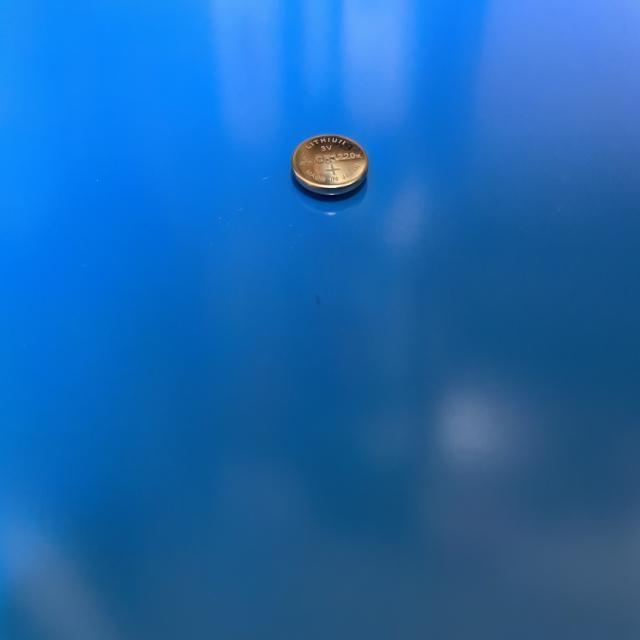COIN: (293, 134, 369, 198)
